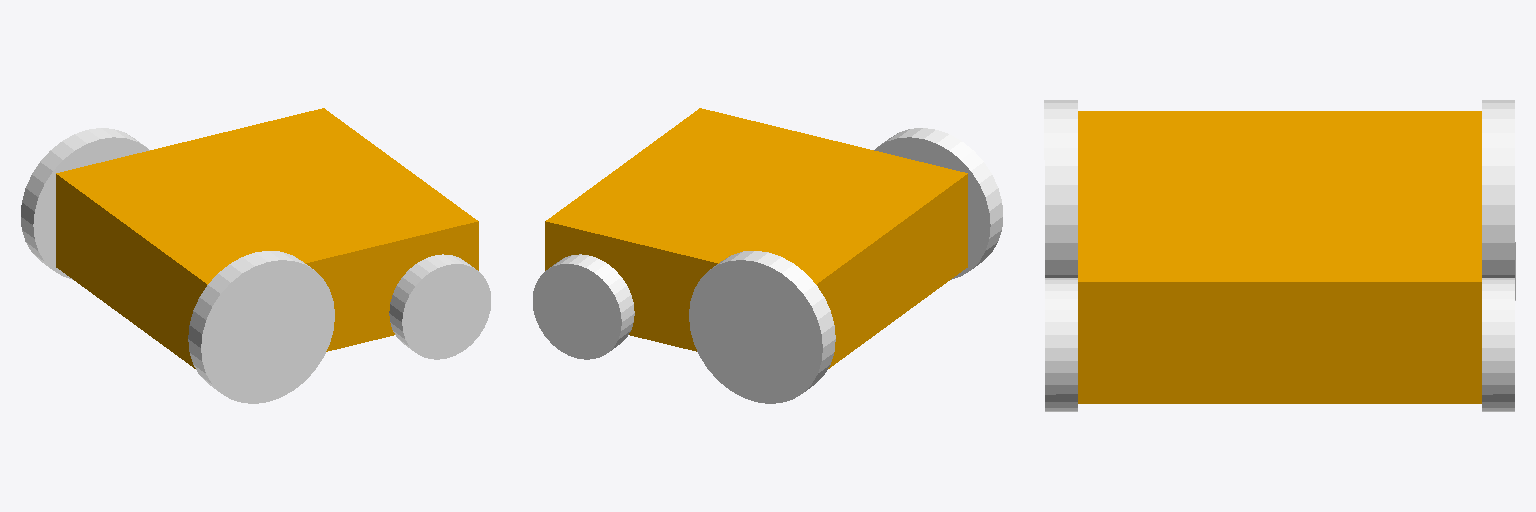
robot.urdf — myfirst:
<?xml version="1.0"?>
<robot name="myfirst">

  <material name="orange">
    <color rgba="1 0.7 0 1"/>
  </material>

  <material name="white">
    <color rgba="1 1 1 1"/>
  </material>

  <link name="base_link">
    <visual>3
      <geometry>
        <box size = "0.6 0.6 0.2"/>
      </geometry>
      <origin rpy="0 0 0" xyz="0 0 0.15"/>
      <material name="orange"/>
    </visual>
  </link>

  <link name="rear_left">
    <visual>
      <geometry>
        <cylinder radius="0.15" length="0.05"/>
      </geometry>
      <origin rpy="0 0 0" xyz="0 0 0"/>
      <material name="white"/>
    </visual>
  </link>

  <link name="rear_right">
    <visual>
      <geometry>
        <cylinder radius="0.15" length="0.05"/>
      </geometry>
      <origin rpy="0 0 0" xyz="0 0 0"/>
      <material name="white"/>
    </visual>
  </link>
  
  <link name="front_left">
    <visual>
      <geometry>
        <cylinder radius="0.10" length="0.05"/>
      </geometry>
      <origin rpy="0 0 0" xyz="0 0 0"/>
      <material name="white"/>
    </visual>
  </link>

  <link name="front_right">
    <visual>
      <geometry>
        <cylinder radius="0.10" length="0.05"/>
      </geometry>
      <origin rpy="0 0 0" xyz="0 0 0"/>
      <material name="white"/>
    </visual>
  </link>

  <joint name="front_right_link" type="continuous">
    <parent link="base_link"/>
    <child link="front_right"/>
    <origin rpy="-1.57 0 0" xyz="0.2 -0.325 0.1"/>
    <axis xyz="0 0 1"/>
  </joint>

  <joint name="front_left_link" type="continuous">
    <parent link="base_link"/>
    <child link="front_left"/>
    <origin rpy="-1.57 0 0" xyz="0.2 0.325 0.1"/>
    <axis xyz="0 0 1"/>
  </joint>


  <joint name="rear_right_link" type="continuous">
    <parent link="base_link"/>
    <child link="rear_right"/>
    <origin rpy="-1.57 0 0" xyz="-0.2 -0.325 0.15"/>
    <axis xyz="0 0 1"/>
  </joint>

  <joint name="rear_left_link" type="continuous">
    <parent link="base_link"/>
    <child link="rear_left"/>
    <origin rpy="-1.57 0 0" xyz="-0.2 0.325 0.15"/>
    <axis xyz="0 0 1"/>
  </joint>


</robot>

--- Facts derived from the render (not from the file) ---
Views: 3 orthographic renders of the robot side by side, from view 1: azimuth 30°, elevation 25°; view 2: azimuth 150°, elevation 25°; view 3: azimuth 270°, elevation 25°.
Robot: myfirst — 5 links, 4 joints (4 continuous); root link base_link; default pose: every joint at zero.
Links seen in each view (by area): view 1: base_link, rear_right, front_right, rear_left; view 2: base_link, rear_left, front_left, rear_right; view 3: base_link, rear_right, rear_left, front_left, front_right.
Link boxes in pixels (x1,y1,x2,y2): base_link: (56,108,478,368); rear_right: (188,251,334,403); front_right: (389,254,490,359); rear_left: (21,128,149,279); base_link: (545,108,967,368); rear_left: (689,251,835,403); front_left: (533,254,634,359); rear_right: (874,128,1002,279); base_link: (1078,111,1481,403); rear_right: (1044,100,1077,277); rear_left: (1482,100,1515,300); front_left: (1482,278,1514,411); front_right: (1045,278,1077,411).
Bounding box of the posed robot: 0.65 × 0.7002 × 0.3 m (x, y, z).
Geometry: primitives only (box / cylinder / sphere), no mesh files.